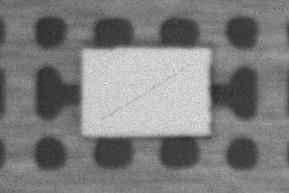DIE_CRACK: (151, 43, 286, 80)
